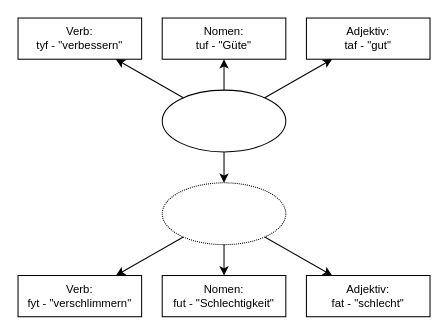
This 448x335 diagram has some shape labels left out. The box of each missing label's shape, as (x1, y1, x2, y2) in pixels:
Antonym: F - T: (161, 182, 286, 245)
Wurzel: T - F: (161, 89, 286, 152)
